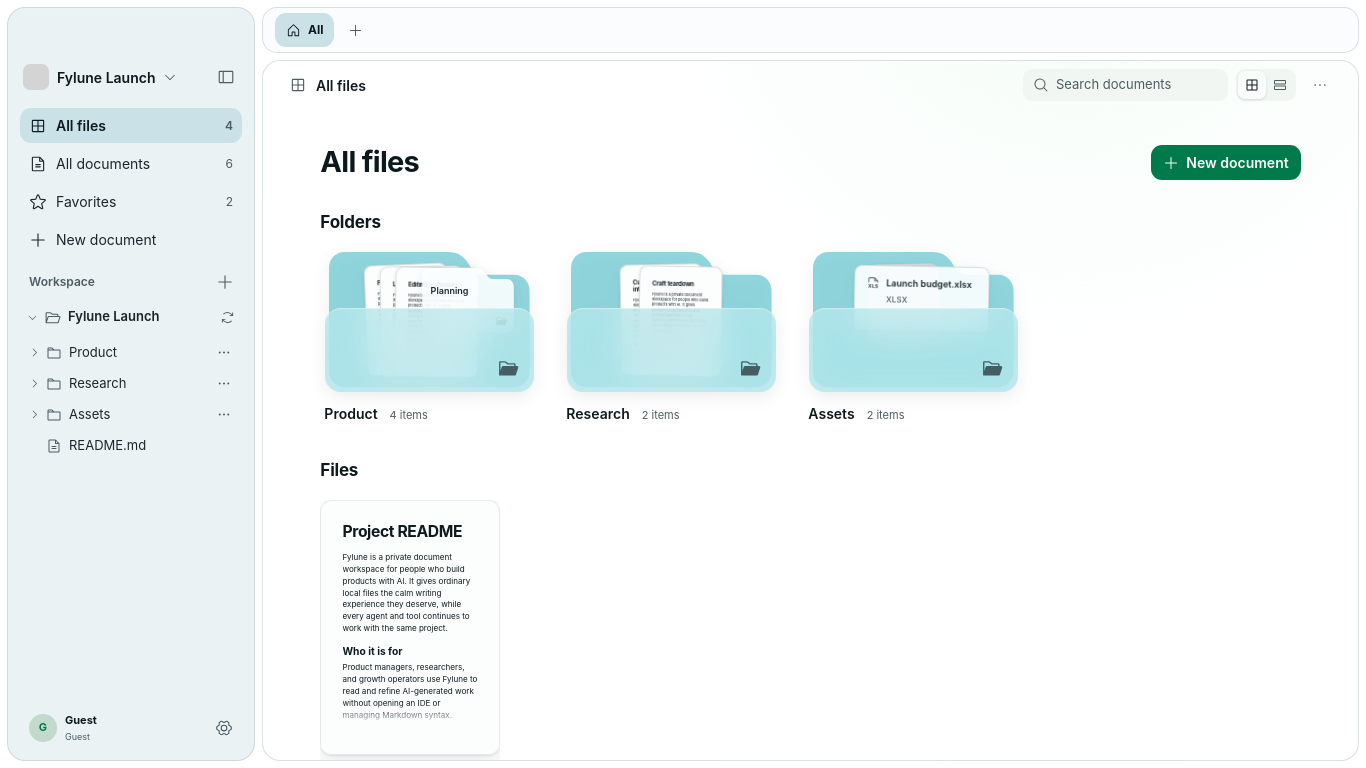
Fylune renderer › uses a full-width tab header when the sidebar is collapsed
This screenshot has width=1366, height=768.
Click the button named "Hide sidebar" at (226, 77), box [210, 61, 242, 93]
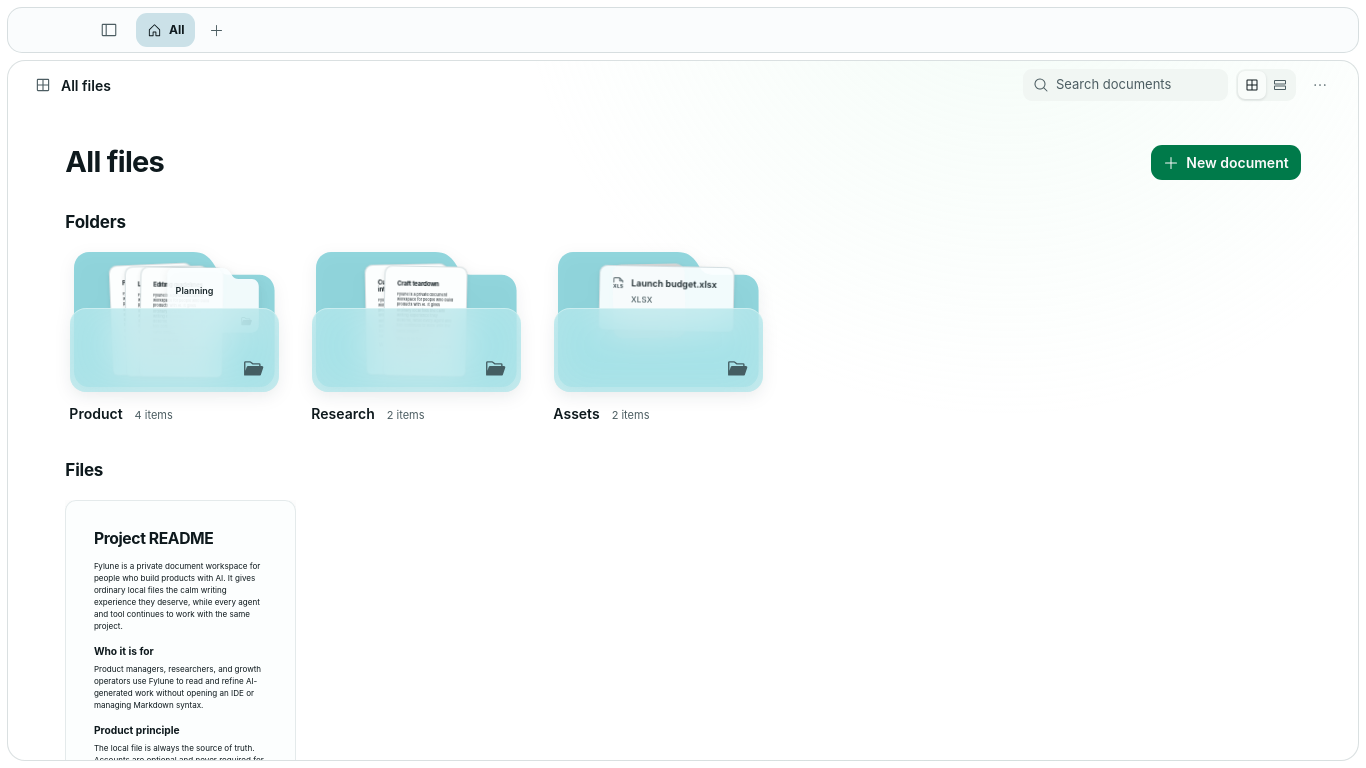
Now the button named "Show sidebar" is shown
Click the button named "Show sidebar" at (109, 30), box [92, 13, 126, 47]
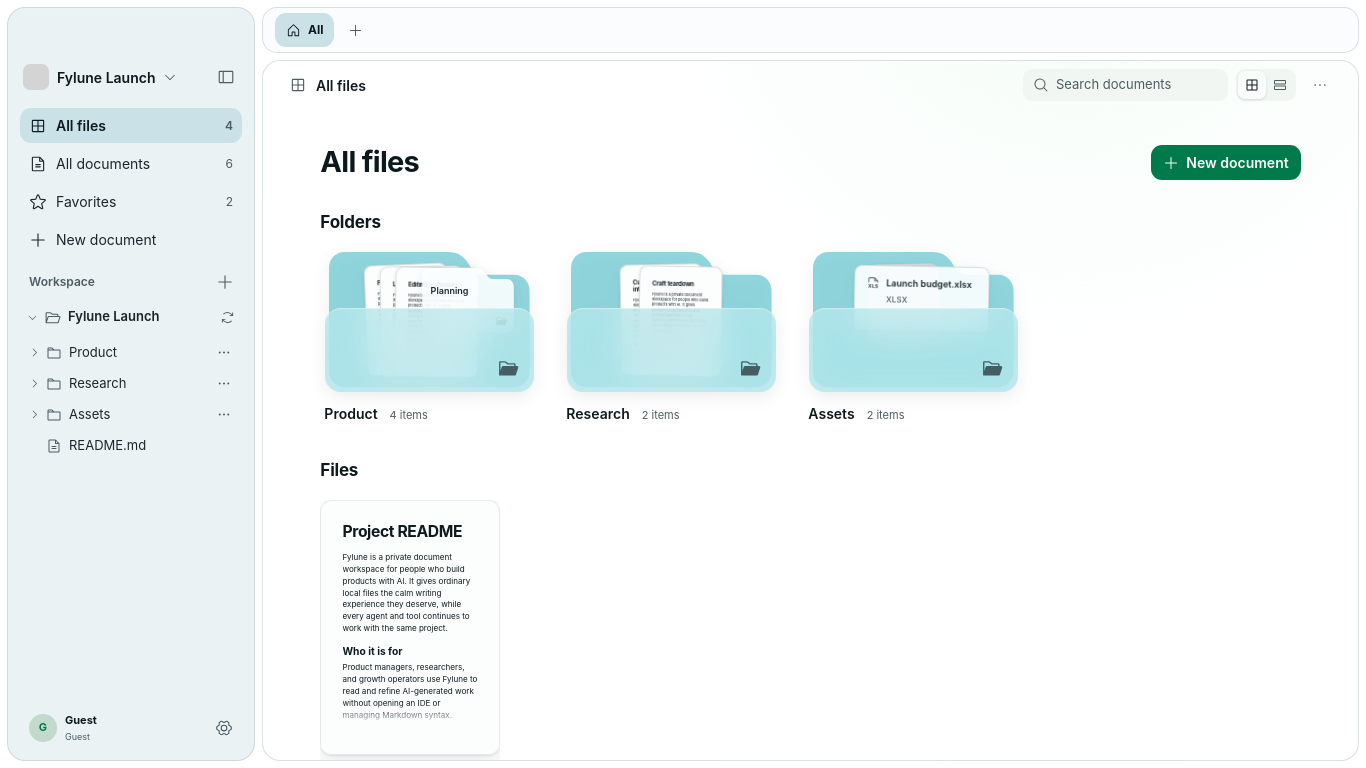
Now the element named "Workspace navigation" is shown, box [7, 7, 255, 761]
